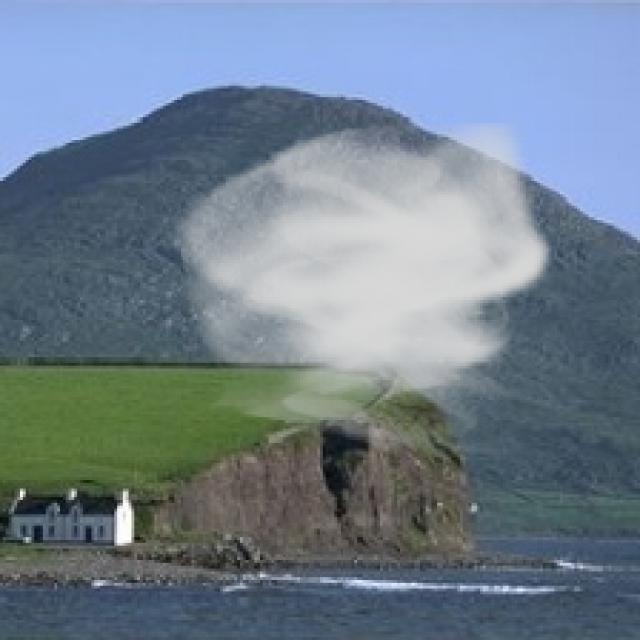smoke: (163, 111, 554, 463)
